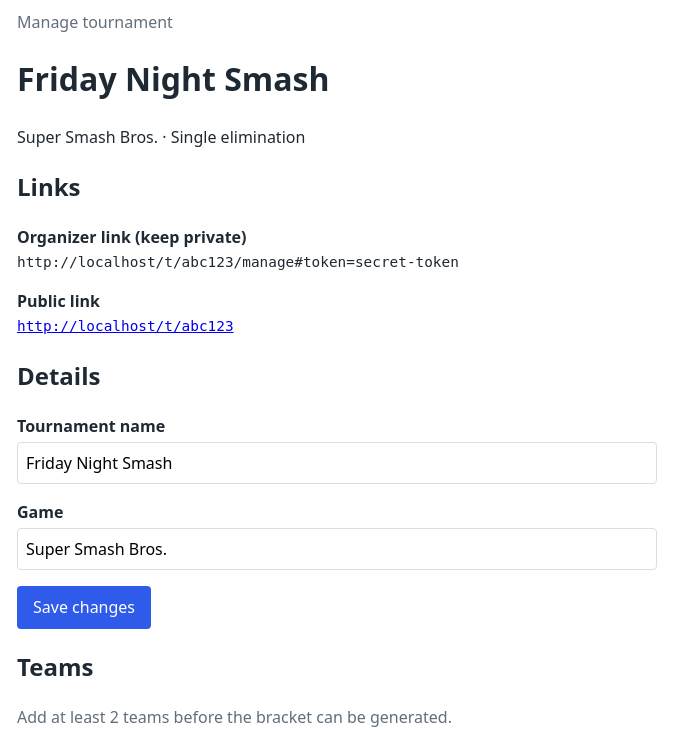
Test: ManageTournamentPage › validates edits before saving
This screenshot has width=674, height=730.
Clear the field labelled "Game" at coordinates (337, 549), box [17, 528, 657, 570]
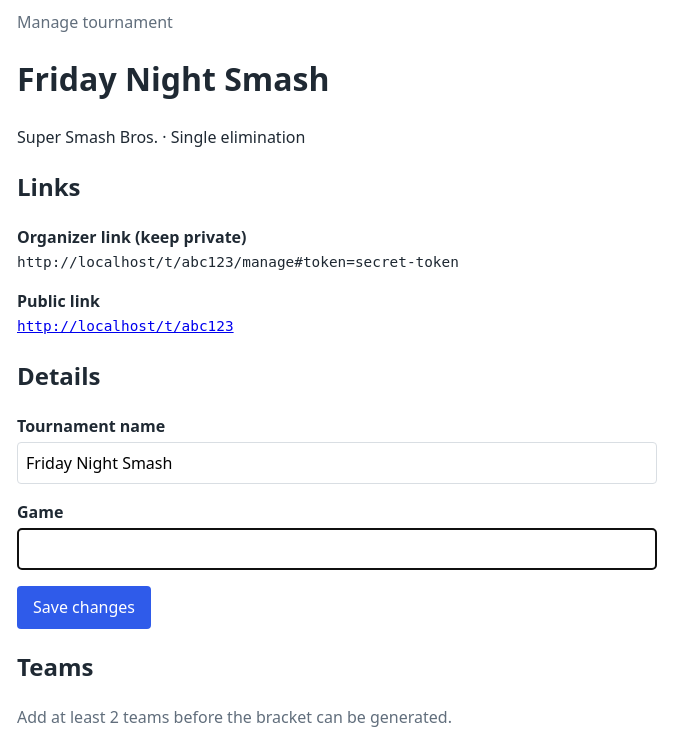
Click the button "Save changes".
click(84, 607)  # box [17, 586, 151, 629]
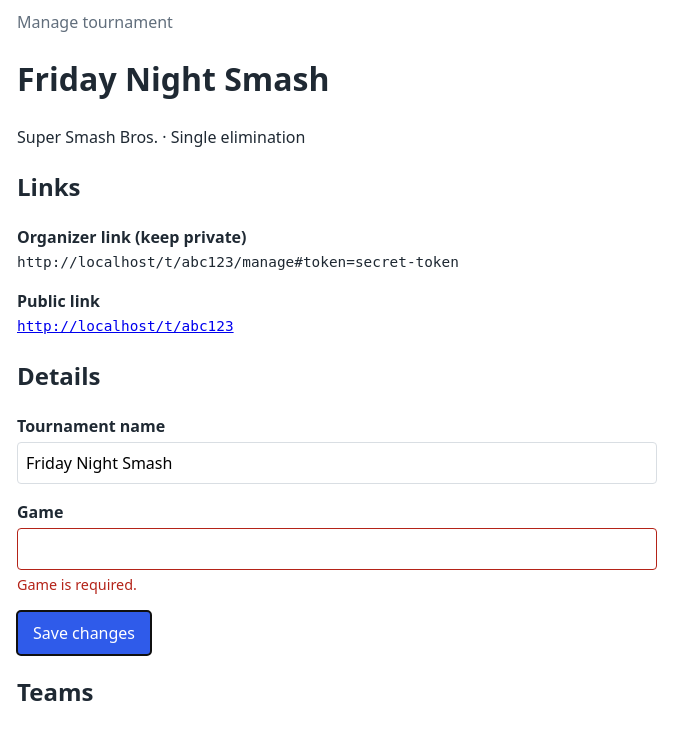
Result: the text "Game is required." is shown at [17, 575, 137, 594]
